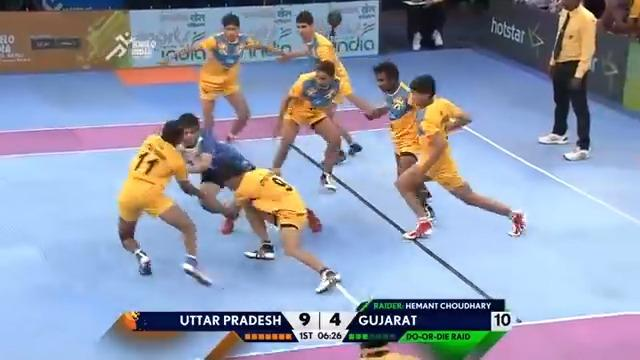Player: (187, 140, 342, 293), (393, 73, 527, 240), (116, 115, 213, 287), (166, 12, 288, 143), (275, 9, 377, 162), (363, 60, 436, 221), (270, 59, 345, 193)
Raider: (175, 112, 240, 234)
referee: (537, 0, 598, 161), (594, 0, 637, 105), (401, 0, 447, 50)
